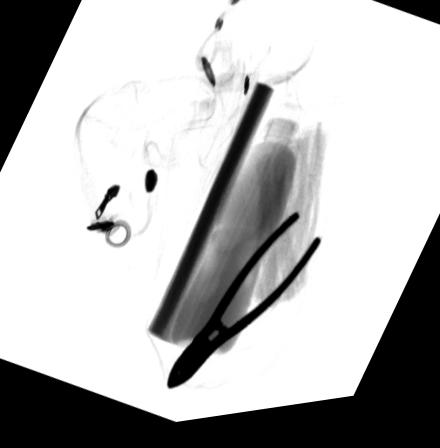Pliers: (165, 218, 322, 395)
